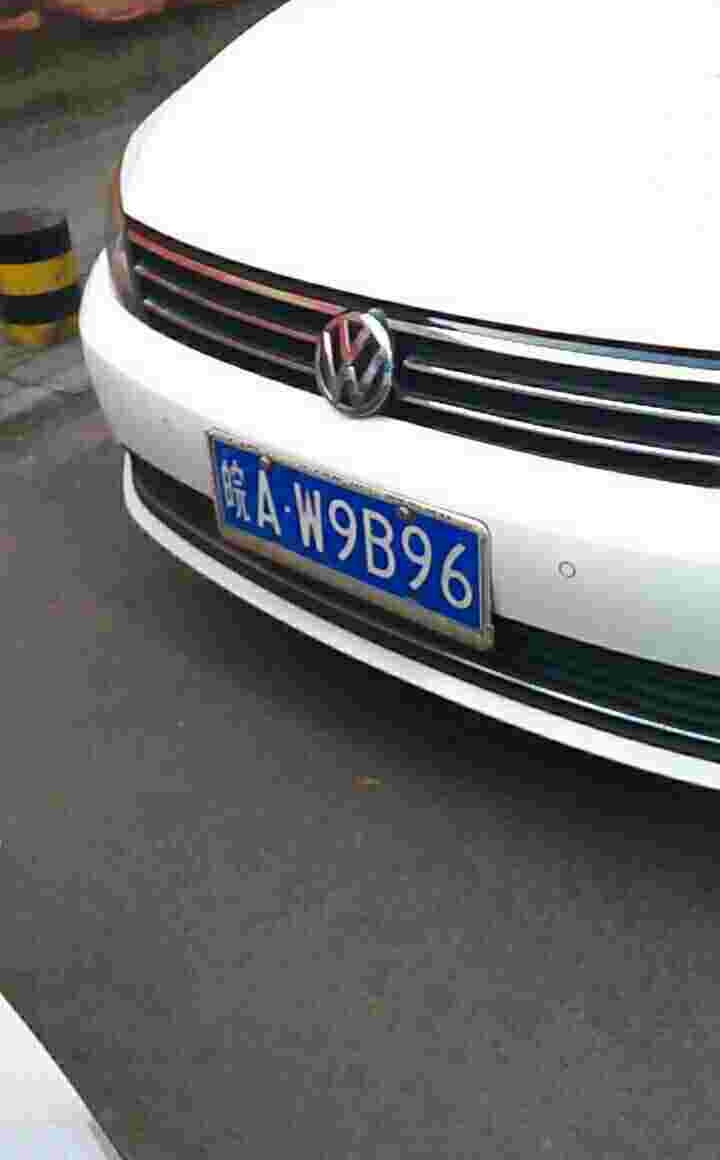license_plate: (206, 442, 494, 621)
